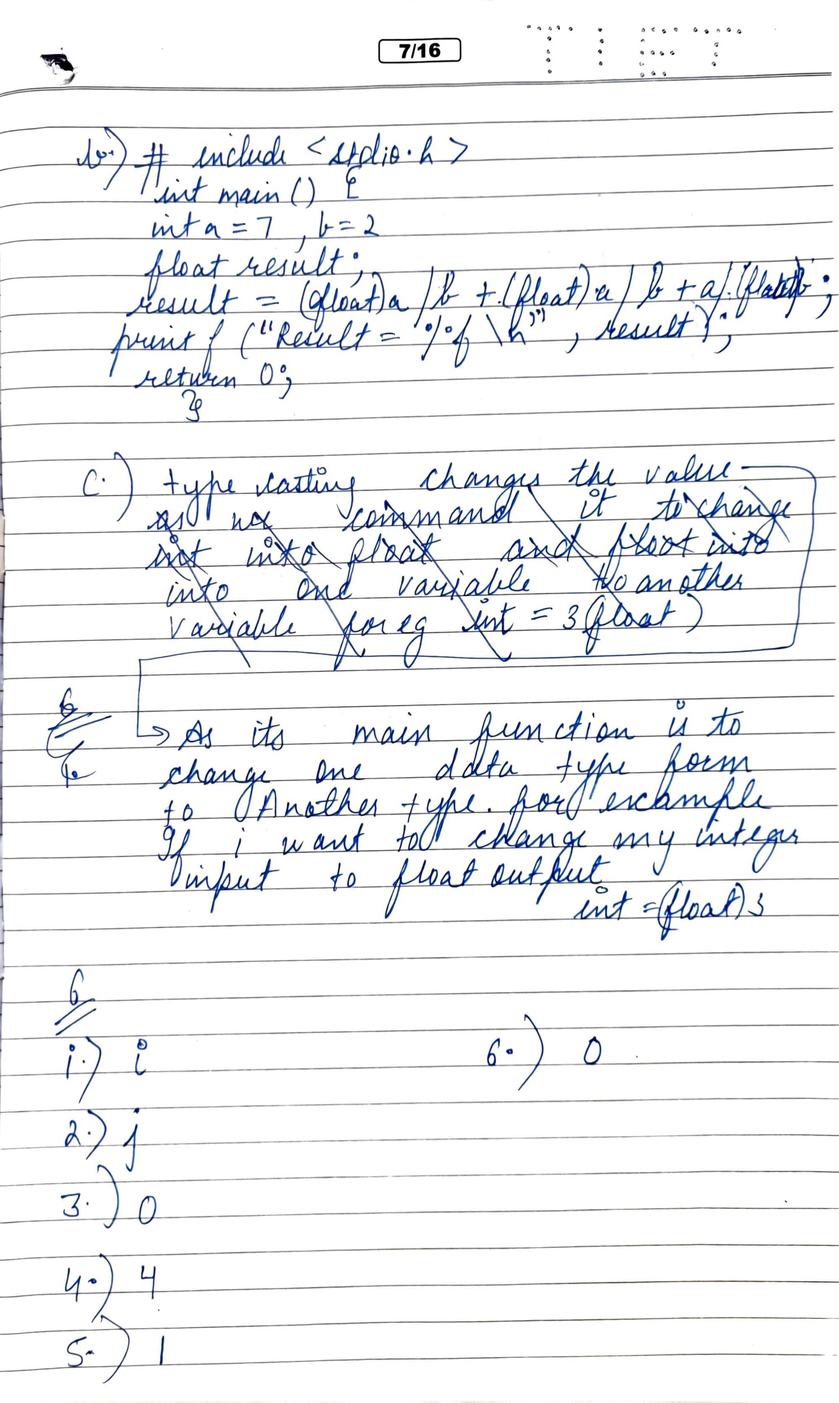cuttings: (143, 453, 797, 673), (42, 686, 116, 784)
